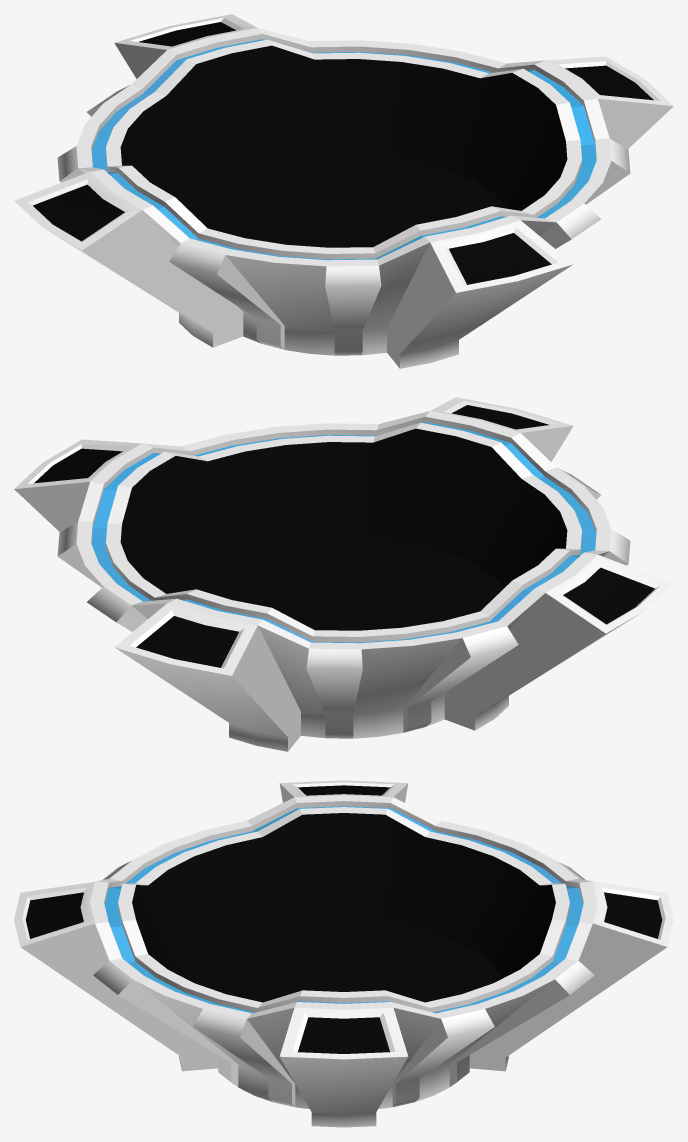
Rendered from MainDesk.fbx.
The picture shows the model from 3 angles, top to bottom: view 1: azimuth 30°, elevation 25°; view 2: azimuth 150°, elevation 25°; view 3: azimuth 270°, elevation 25°; orthographic projection. The views are drawn at different scales.
Parts seen in each view (by area): view 1: Cylinder; view 2: Cylinder; view 3: Cylinder.
Part boxes in pixels (x1=…): Cylinder: x1=14, y1=14, x2=673, y2=368; Cylinder: x1=14, y1=397, x2=673, y2=751; Cylinder: x1=14, y1=780, x2=673, y2=1127.
Bounding box in the file's own units: 520 × 135 × 520.
